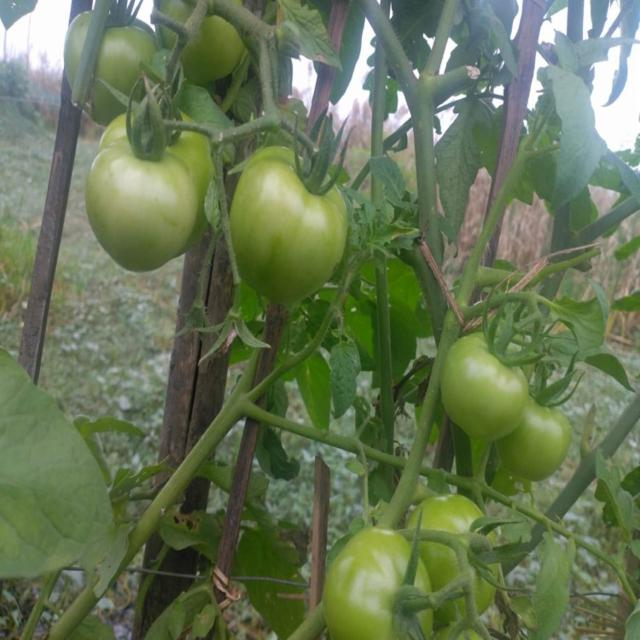tomato: (233, 152, 352, 300), (89, 148, 203, 279), (327, 529, 438, 639), (441, 330, 522, 439), (94, 17, 155, 117), (106, 110, 204, 160), (511, 403, 569, 477), (411, 488, 485, 535), (190, 24, 246, 82), (469, 525, 500, 608), (67, 9, 88, 84)
